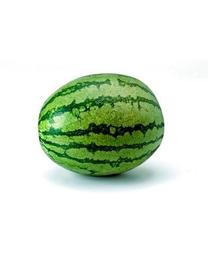watermelon: (37, 72, 165, 180)
